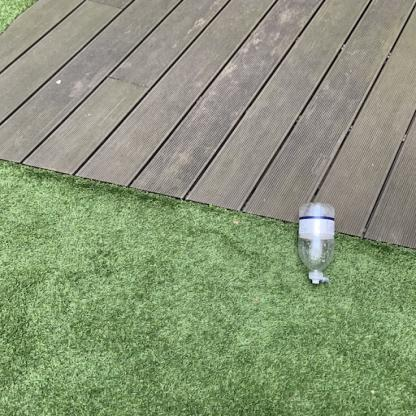trash: (296, 203, 336, 287)
